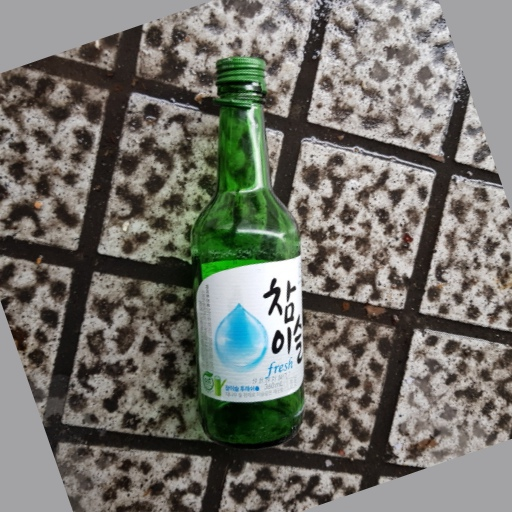Glass_0: (191, 53, 308, 449)
